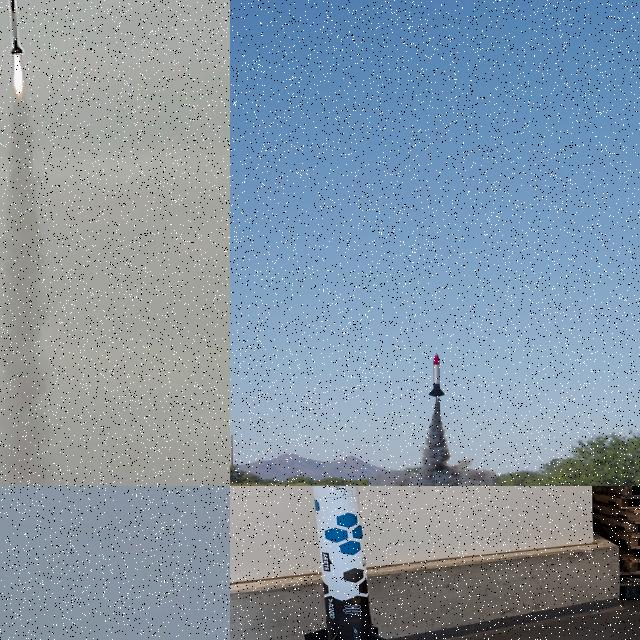Rocket: (304, 486, 388, 640), (9, 0, 24, 54), (428, 353, 446, 398)
